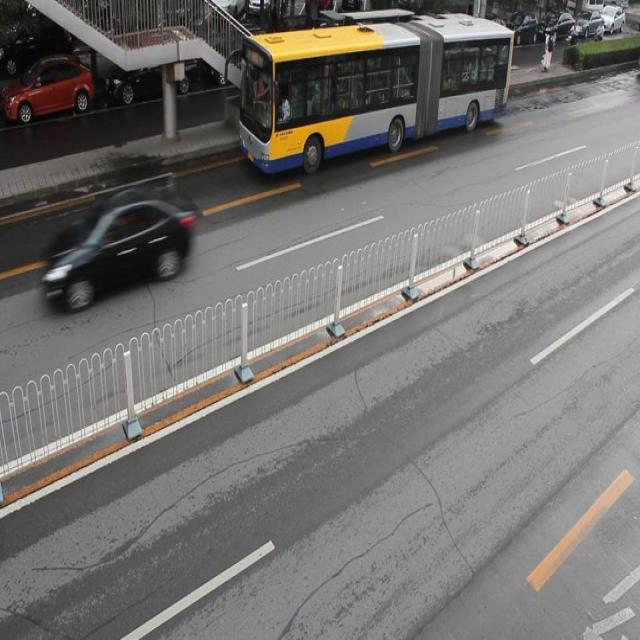car: (50, 186, 190, 308), (1, 54, 92, 120), (103, 39, 194, 98), (205, 24, 270, 87), (289, 23, 356, 78)
van: (239, 10, 511, 170)
